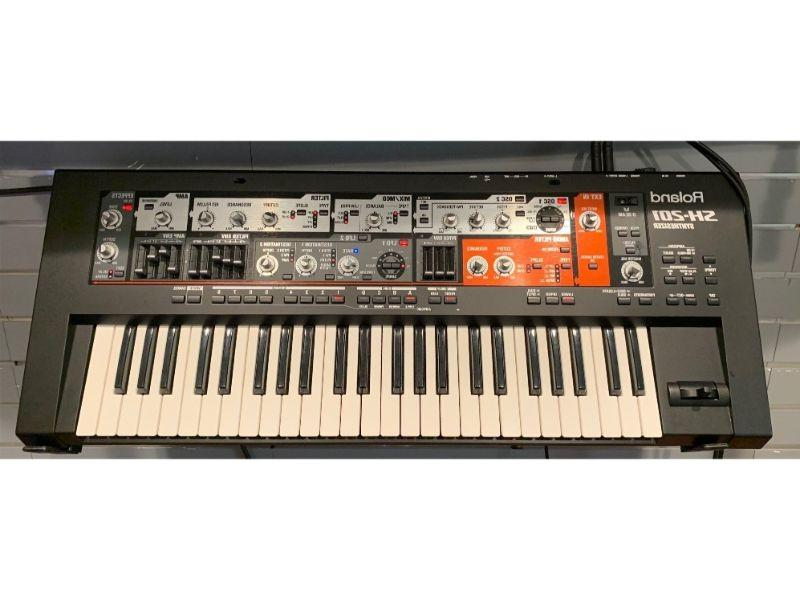synthesizer: (20, 155, 779, 449)
